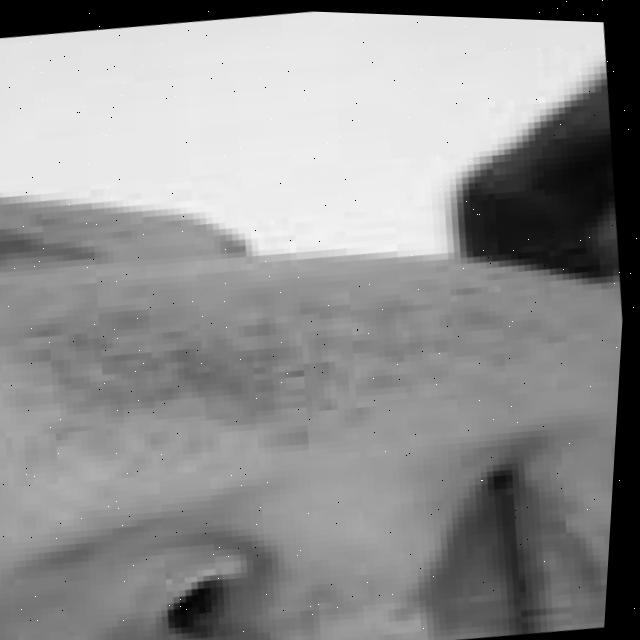Melasma: (70, 275, 438, 490)
